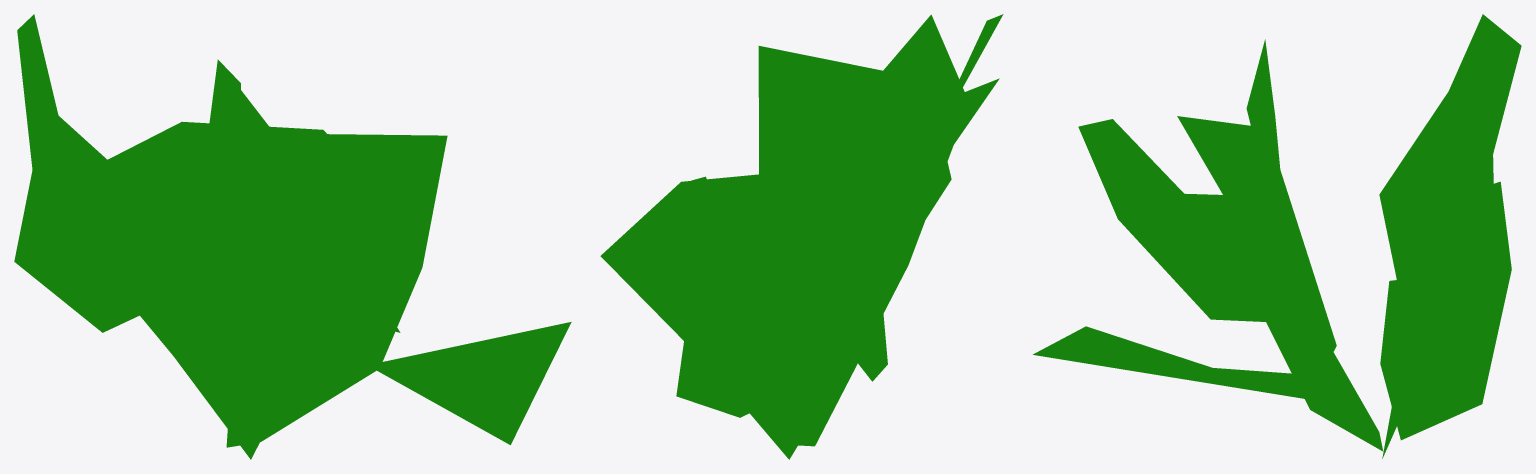
File: Deadbush_1.fbx
The picture shows the model from 3 angles, left to right: view 1: azimuth 30°, elevation 25°; view 2: azimuth 150°, elevation 25°; view 3: azimuth 270°, elevation 25°; orthographic projection. The views are drawn at different scales.
Parts seen in each view (by area): view 1: Deadbush_1; view 2: Deadbush_1; view 3: Deadbush_1.
Boxes of the visible parts, left/top/right/bottom form: Deadbush_1: left=14, top=14, right=571, bottom=459; Deadbush_1: left=600, top=14, right=1003, bottom=459; Deadbush_1: left=1033, top=14, right=1521, bottom=458.
Size of the model in its own units: 50.97 by 66.14 by 76.02.
